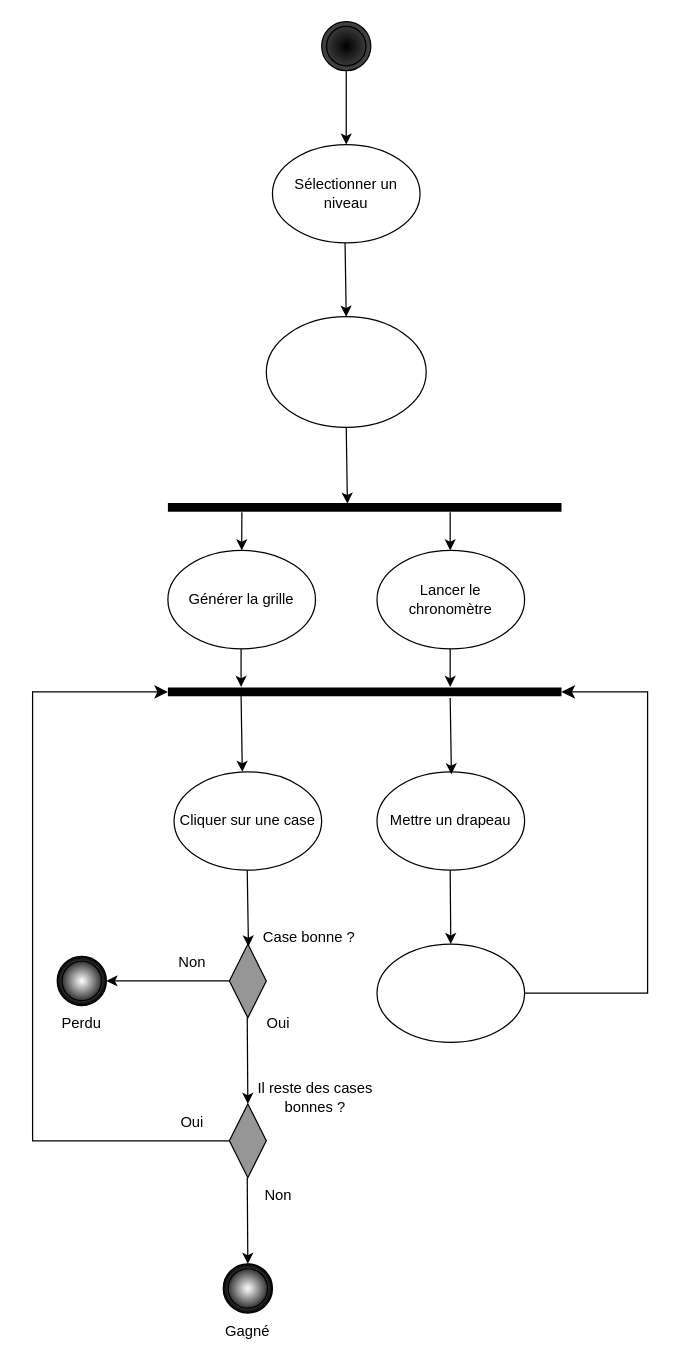
This 681x1371 diagram has some shape labels left out. The centre of each missing label's shape, as x and y in pixels:
Cliquer pour commencer la partie: (x=345, y=371)
Décompte des drapeaux: (x=450, y=992)
